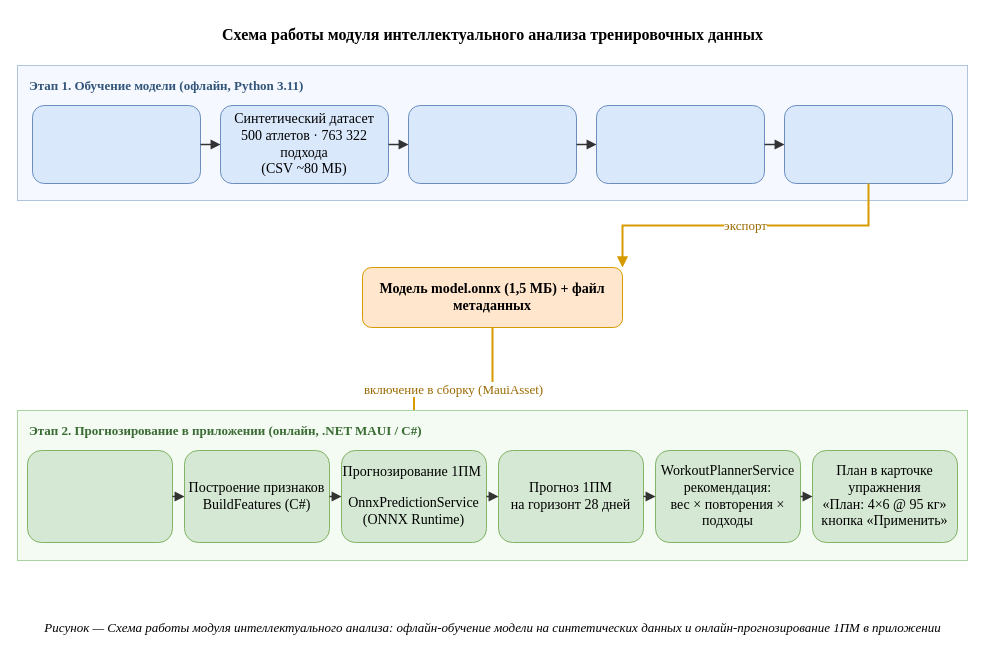
This 985x666 diagram has some shape labels left out. Each missing label, with the centre of its shape:
"Инженерия признаков 30 признаков · 78 384 пары обучения" goes at pixel 492 144.
"История тренировок из SQLite" goes at pixel 99 496.
"Конвертация в ONNX (onnxmltools)" goes at pixel 868 144.
"Обучение модели LightGBM сплит по атлетам · early stopping" goes at pixel 680 144.
"Симулятор виртуальных атлетов (модуль ml/generator/)" goes at pixel 116 144.
